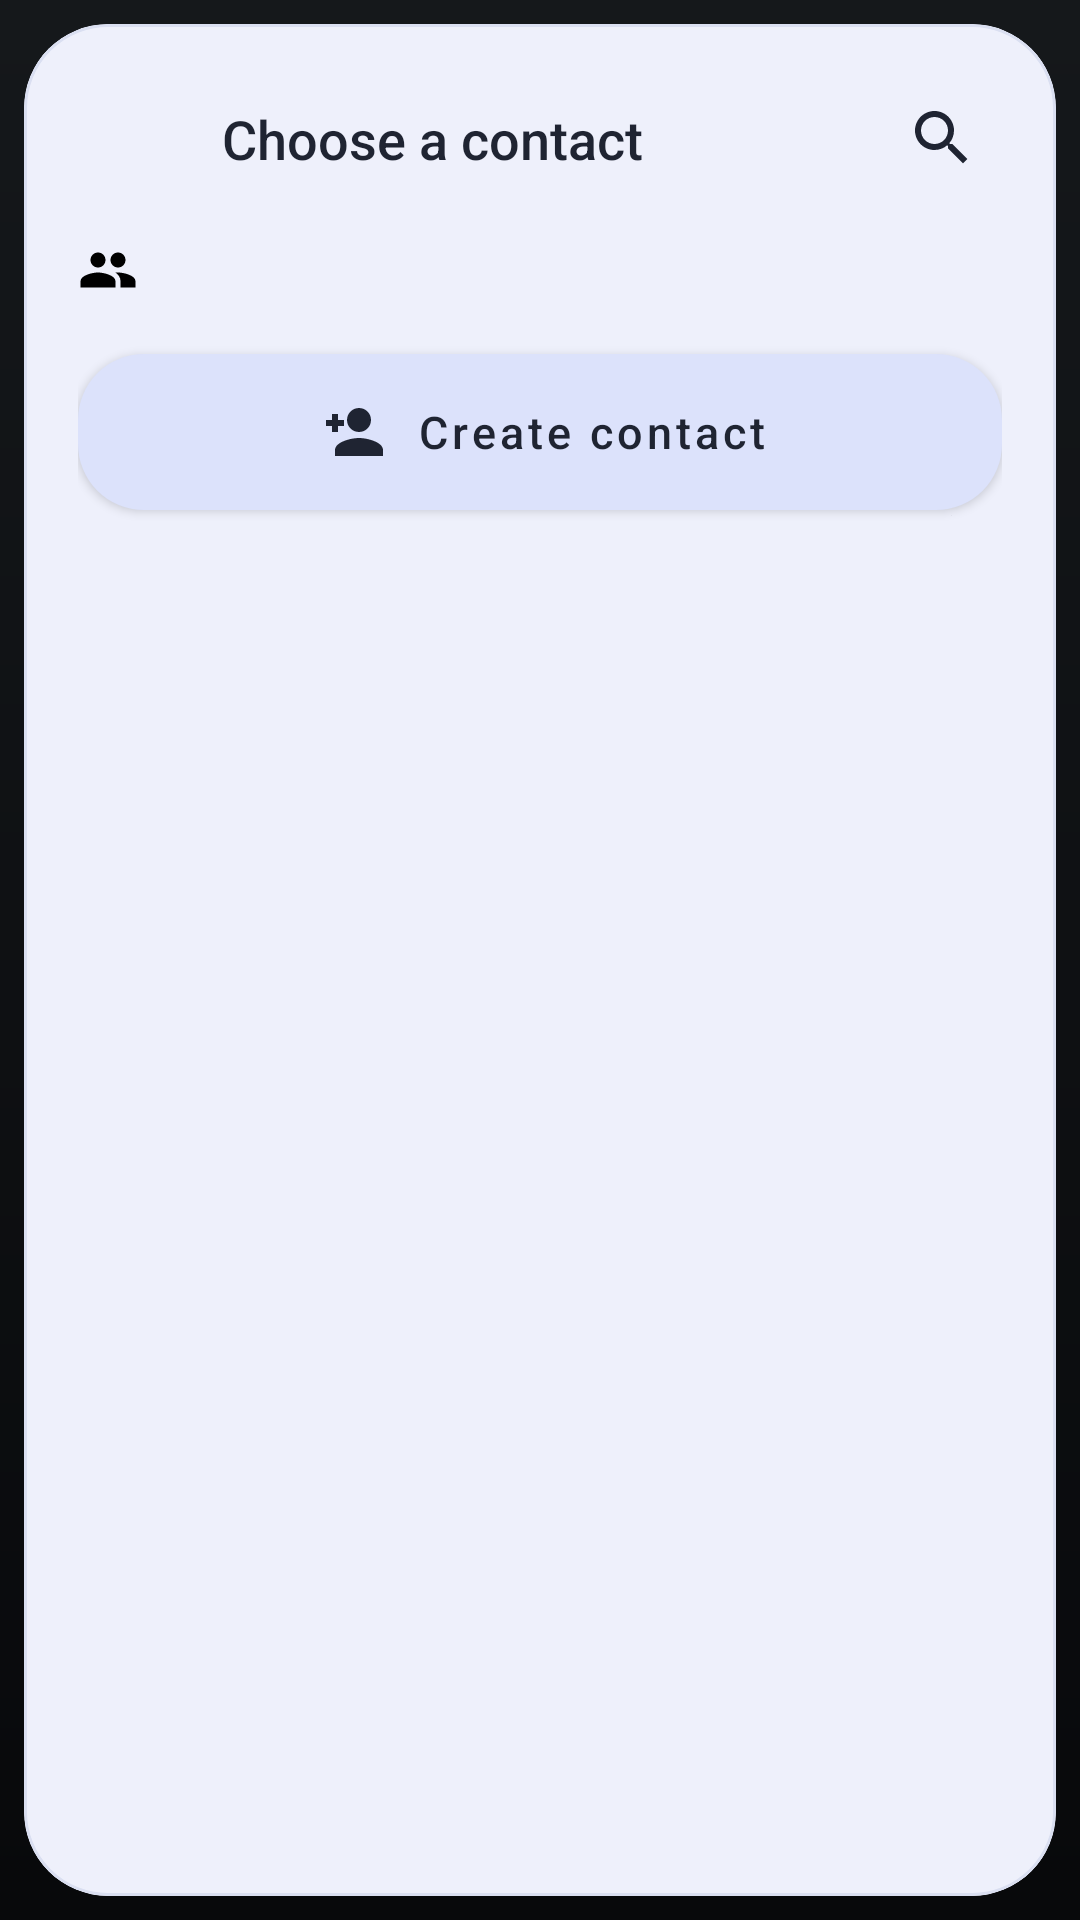

Screen size 1080×1920. Icon name, then its box in pixels as bbox=(x1, y1, x2, y2):
Search contacts: bbox=(915, 111, 967, 163)
